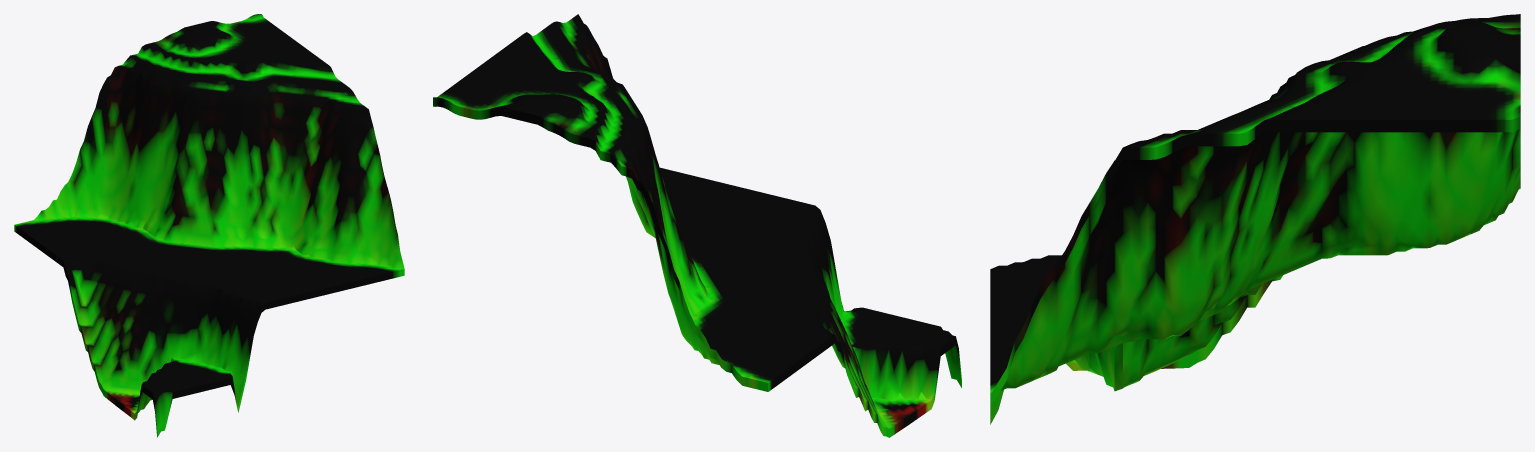
File: Terrain_01_01.fbx
The picture shows the model from 3 angles, left to right: view 1: azimuth 30°, elevation 25°; view 2: azimuth 150°, elevation 25°; view 3: azimuth 270°, elevation 25°; orthographic projection. The views are drawn at different scales.
Visible parts, largest first — view 1: Terrain_01_01_LOD0; view 2: Terrain_01_01_LOD0; view 3: Terrain_01_01_LOD0.
Boxes of the visible parts, x1,y1,x2,y2 form: Terrain_01_01_LOD0: [14, 14, 404, 437]; Terrain_01_01_LOD0: [433, 14, 961, 437]; Terrain_01_01_LOD0: [990, 14, 1520, 424].
Size of what is drawn, in the model's own units: 384 by 392 by 384.
